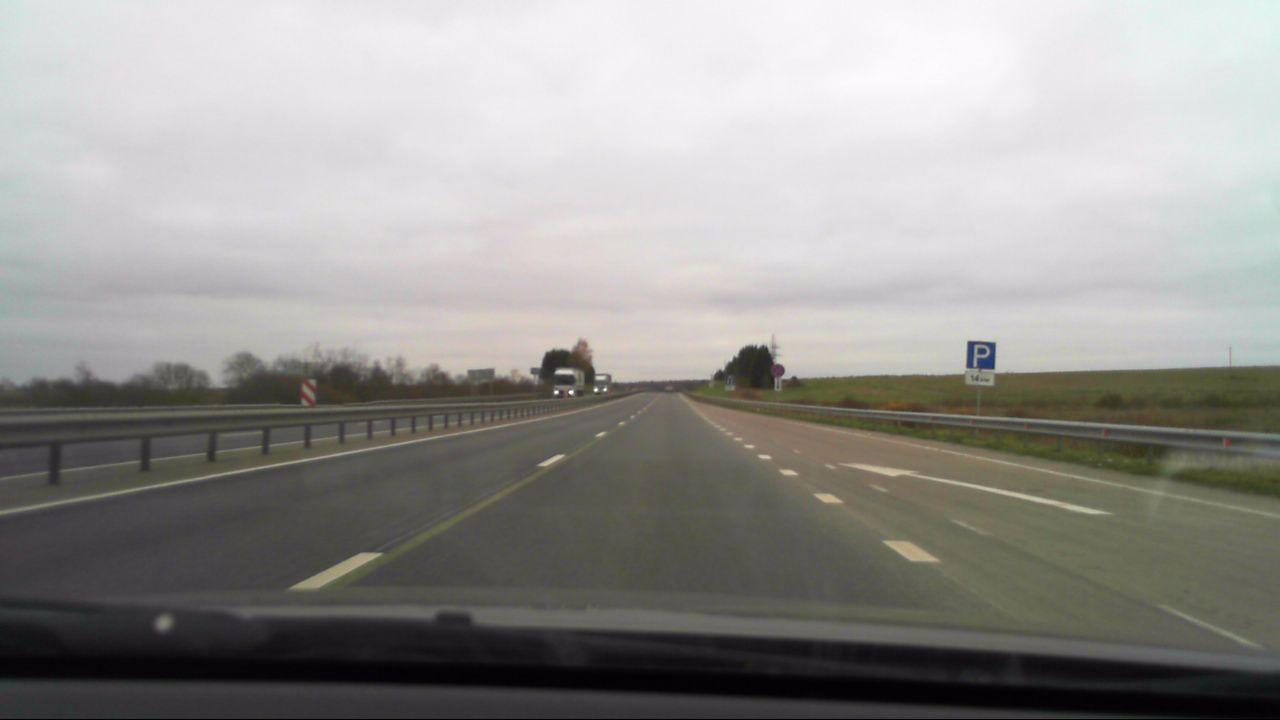3_27: (770, 364, 786, 377)
6_3_1: (724, 373, 736, 385)
6_4: (966, 336, 997, 369)
8_1_1: (964, 371, 995, 386), (723, 385, 736, 391)
8_2_3: (774, 377, 781, 392)
